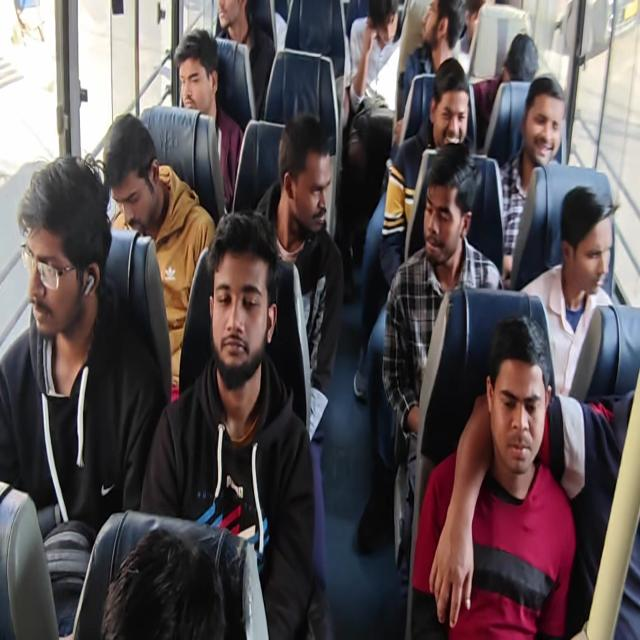person: (123, 546, 230, 640), (18, 200, 86, 338), (484, 342, 549, 472), (273, 102, 336, 230), (207, 238, 267, 372), (560, 186, 619, 296), (102, 134, 157, 248), (418, 168, 482, 264), (175, 40, 219, 127), (524, 88, 564, 168), (431, 73, 472, 147), (497, 26, 539, 97), (420, 0, 456, 55), (211, 0, 250, 41), (369, 0, 396, 51)
